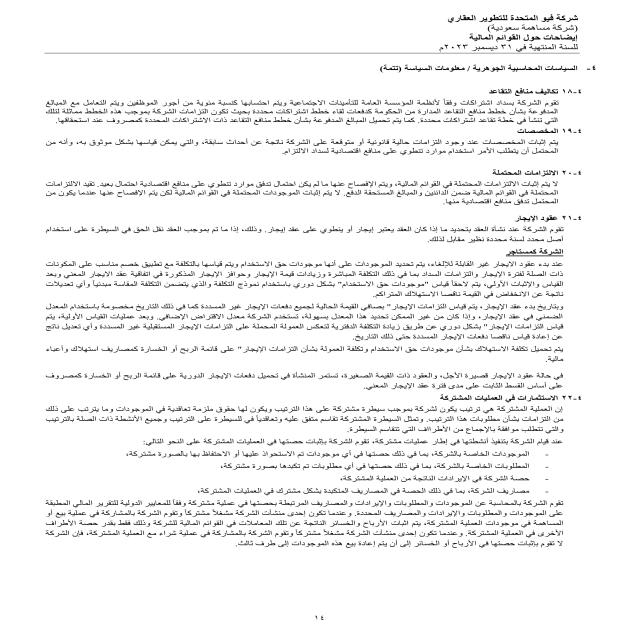notes: (448, 31, 584, 44)
text: (22, 81, 600, 555)
